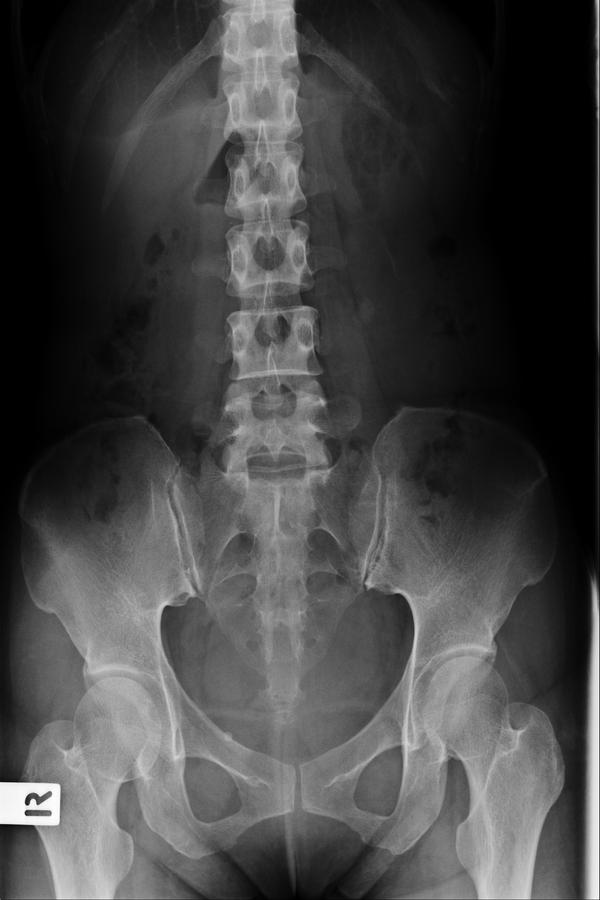not lumbar scoliosis: (214, 187, 330, 525)
